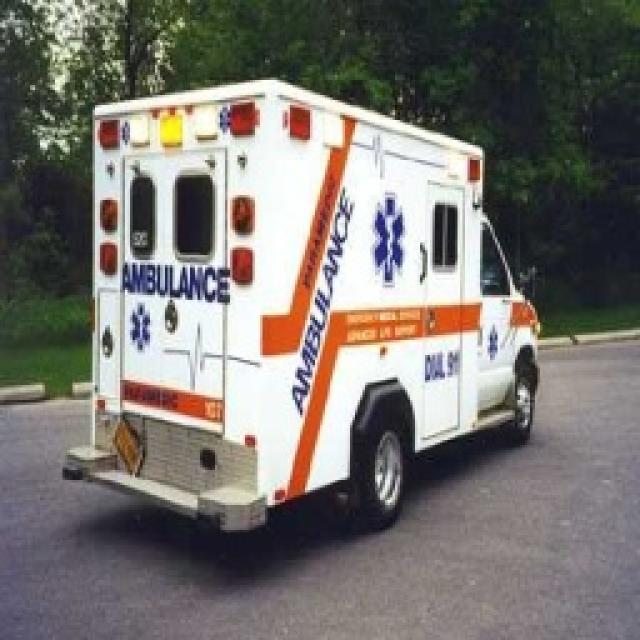emergency-vehicle: (72, 79, 542, 539)
